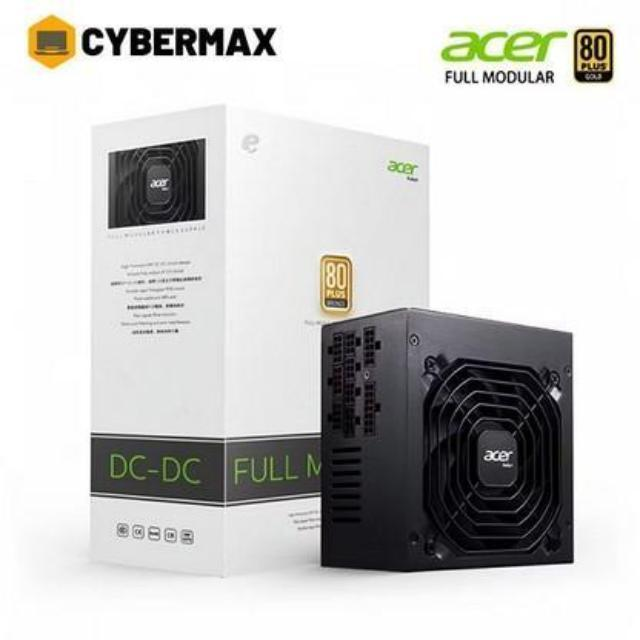PSU: (310, 302, 588, 592)
